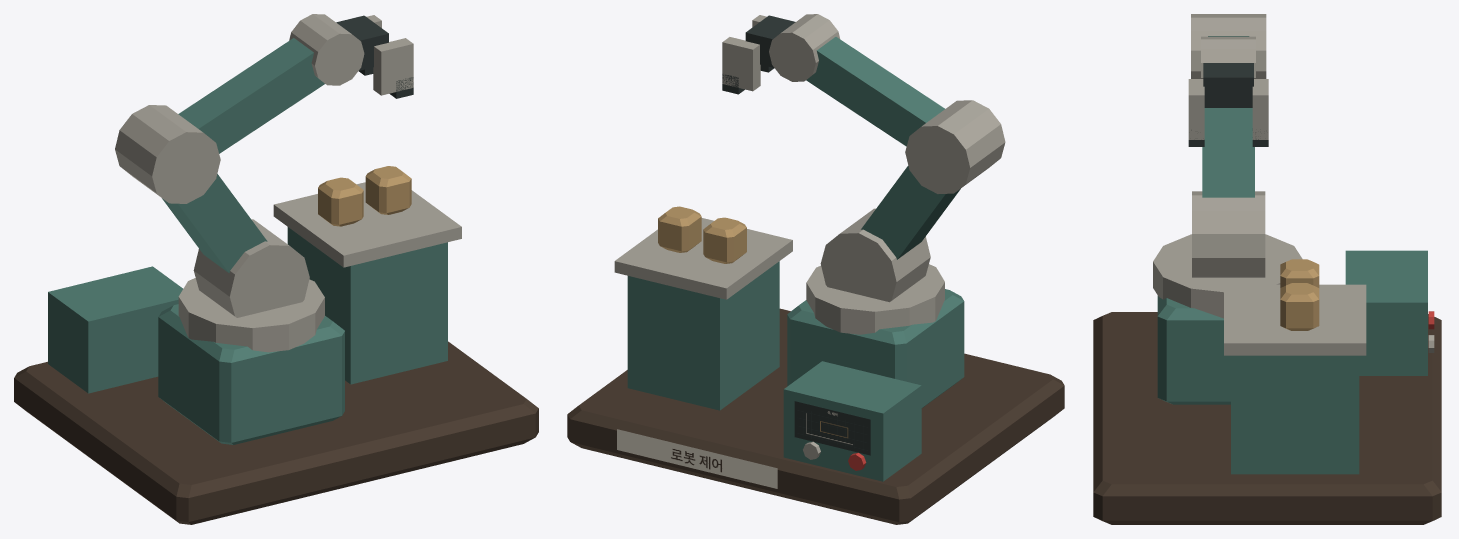
Rendered from T03_Robot_Training_Cell.fbx.
3 renders of one model, left to right at view 1: azimuth 30°, elevation 25°; view 2: azimuth 150°, elevation 25°; view 3: azimuth 270°, elevation 25°, orthographic. The views are drawn at different scales.
Visible parts, largest first — view 1: Structure, Training_Target, Controls, Upper_Arm, Forearm, Arm_Base, Gripper; view 2: Structure, Training_Target, Controls, Upper_Arm, Forearm, Arm_Base, Title, Gripper; view 3: Structure, Training_Target, Controls, Upper_Arm, Arm_Base, Gripper, Forearm.
Part boxes in pixels (x1,y1,x2,y2): Structure: (14,278,538,524); Training_Target: (273,166,461,384); Controls: (48,266,182,393); Upper_Arm: (115,105,267,272); Forearm: (178,14,364,153); Arm_Base: (193,219,309,317); Gripper: (336,15,413,98); Structure: (567,264,1064,524); Training_Target: (614,206,792,410); Controls: (783,361,921,481); Upper_Arm: (861,100,1005,259); Forearm: (769,14,944,146); Arm_Base: (820,208,930,302); Title: (617,429,777,488); Gripper: (722,15,795,94); Structure: (1093,234,1441,524); Training_Target: (1224,259,1366,474); Controls: (1345,250,1427,375); Upper_Arm: (1191,14,1266,197); Arm_Base: (1192,191,1265,277); Gripper: (1188,63,1268,146); Forearm: (1201,36,1255,78).
Bounding box in the file's own units: 2 × 2.15 × 1.65.
Materials: 7 (1 with a texture image).
